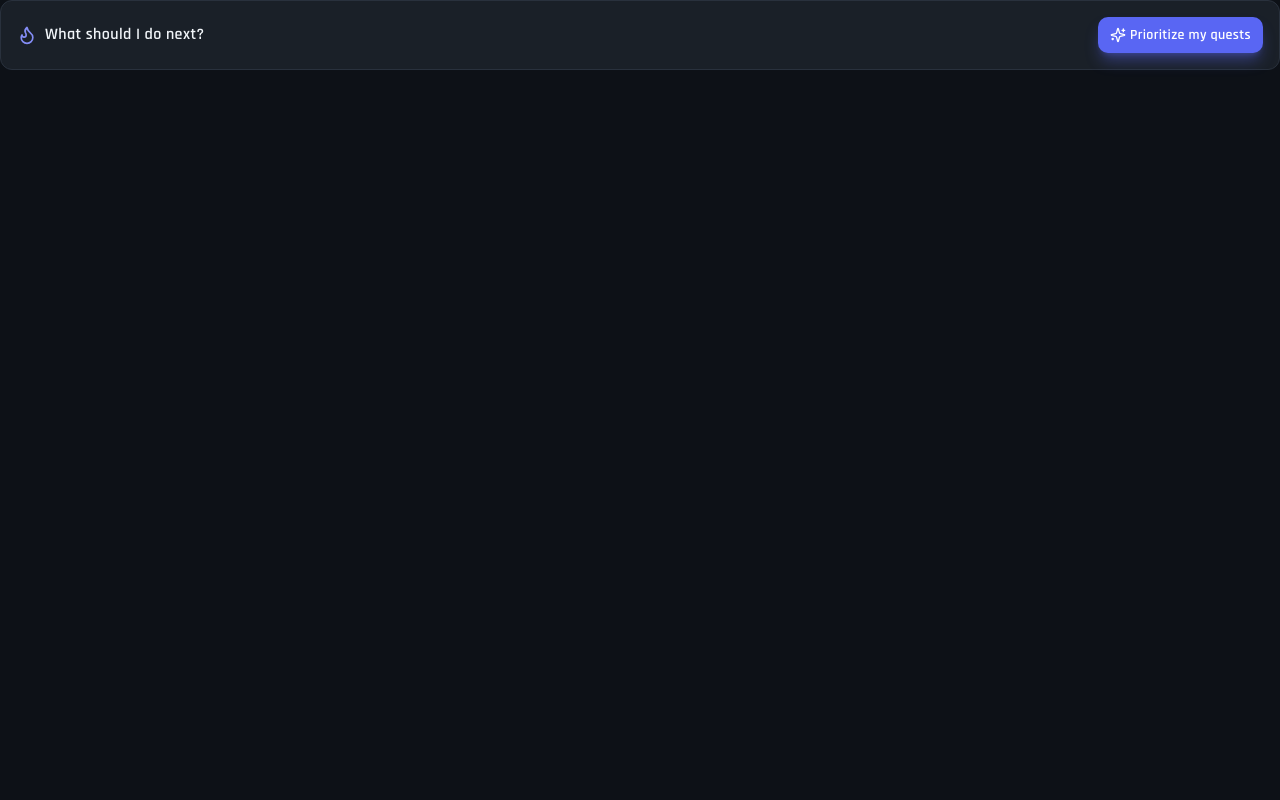
Scenario: PriorityPanel › ranks five quests, then asks for up to ten on Show more
Click the button "Prioritize my quests": (1180, 35) [1098, 17, 1263, 53]
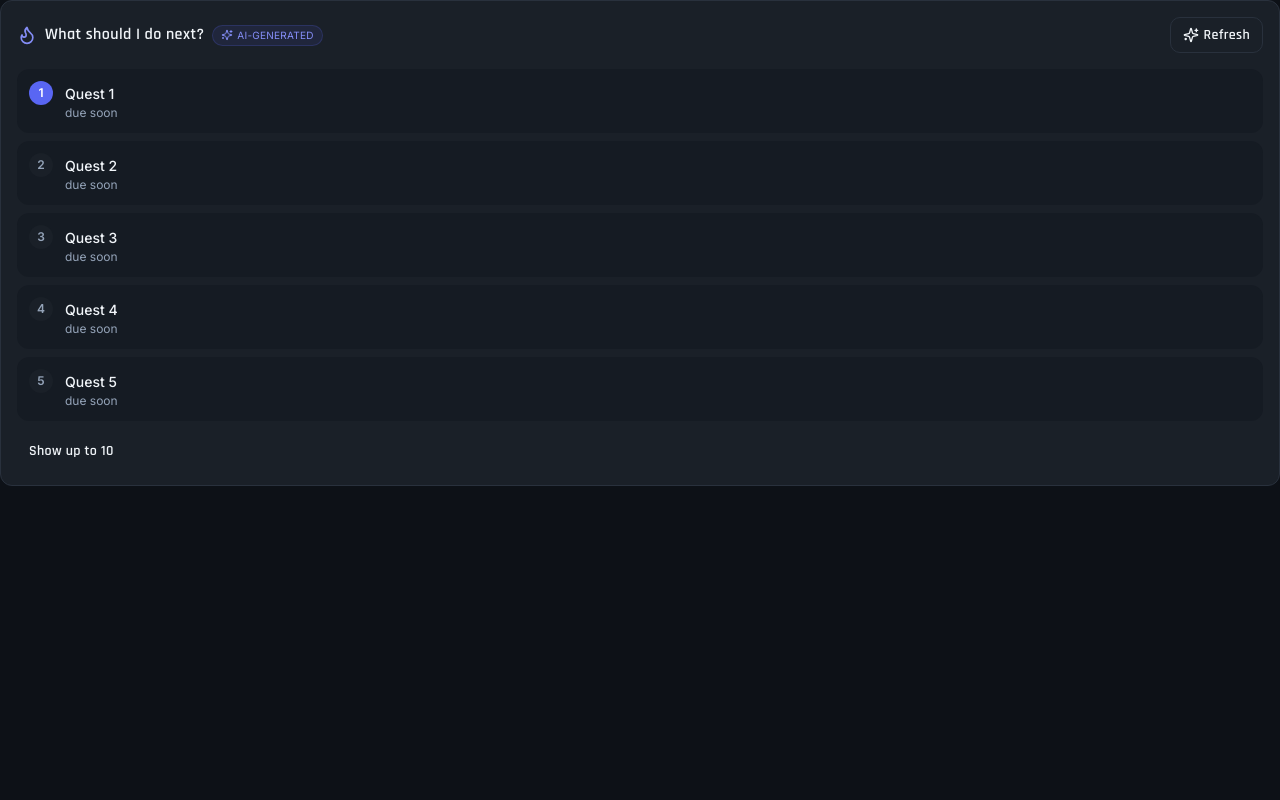
Expected: the button "Quest 5" is shown, [65, 372, 117, 392]
Click the button "Show up to 10": (71, 451) [17, 433, 126, 469]
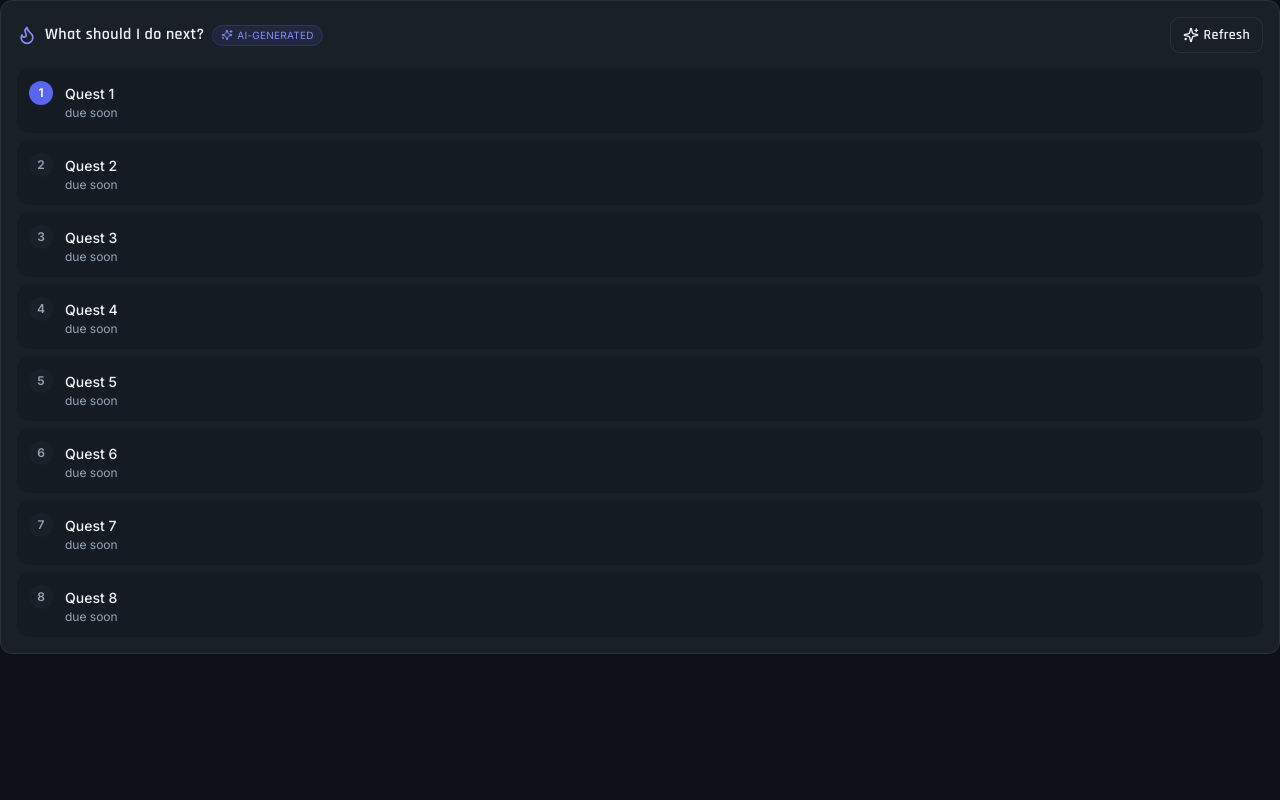
Expected: the button "Quest 8" is shown, [65, 588, 117, 608]
Expected: the button "Show up to 10" is gone
